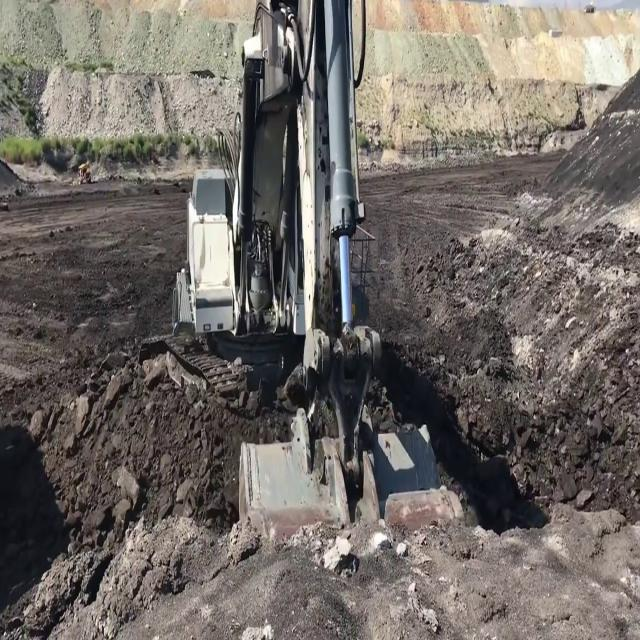excavator: (168, 1, 452, 546)
